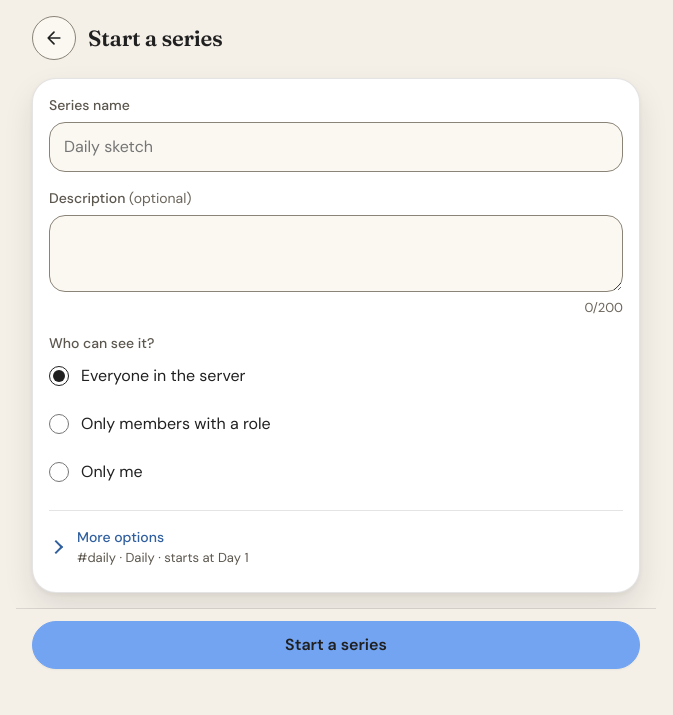
Test case: CreateSeries › says a lost connection in plain words, never the request label
Type "Morning Pages" into the field labelled "Series name".
click(336, 147); type("Morning Pages")  # box [49,122,623,172]
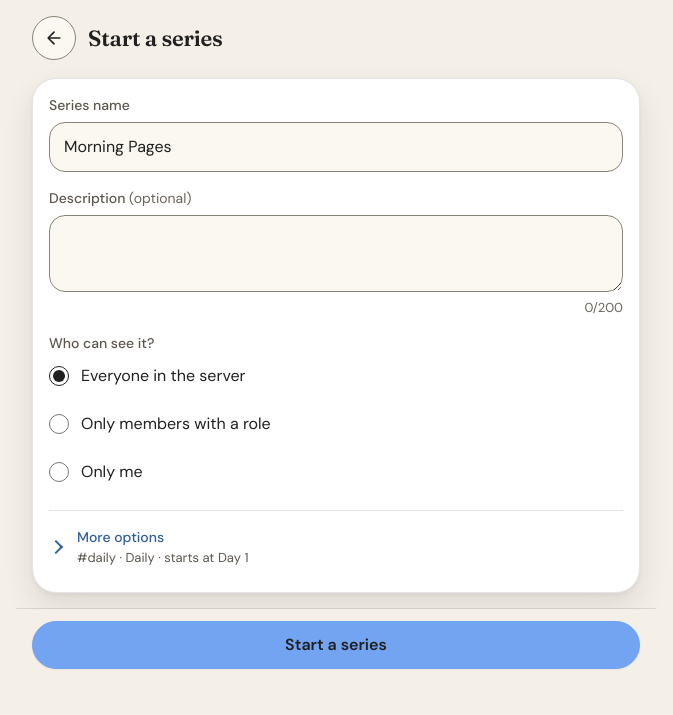
Click the button "Start a series".
click(336, 645)  # box [32,621,640,669]
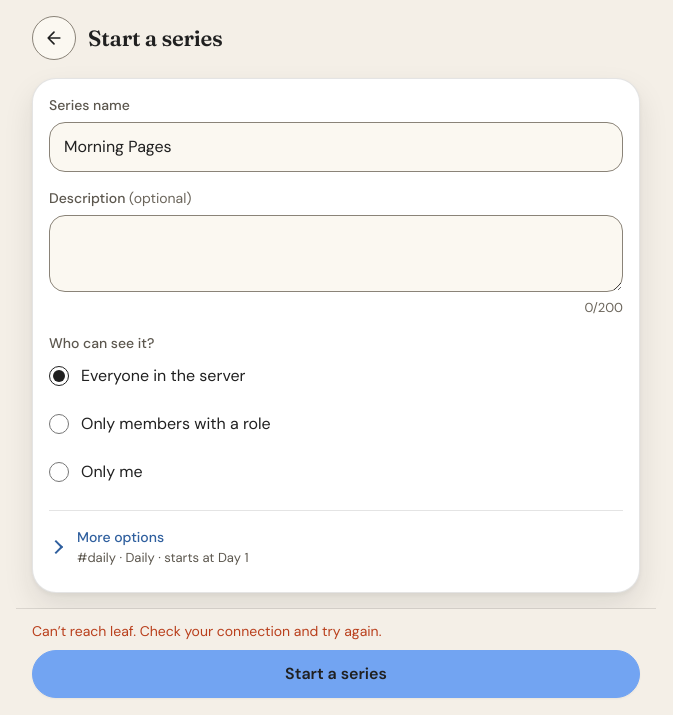
Check: the message reads "Can’t reach leaf. Check your connection and try again.", box [32,622,381,640]
